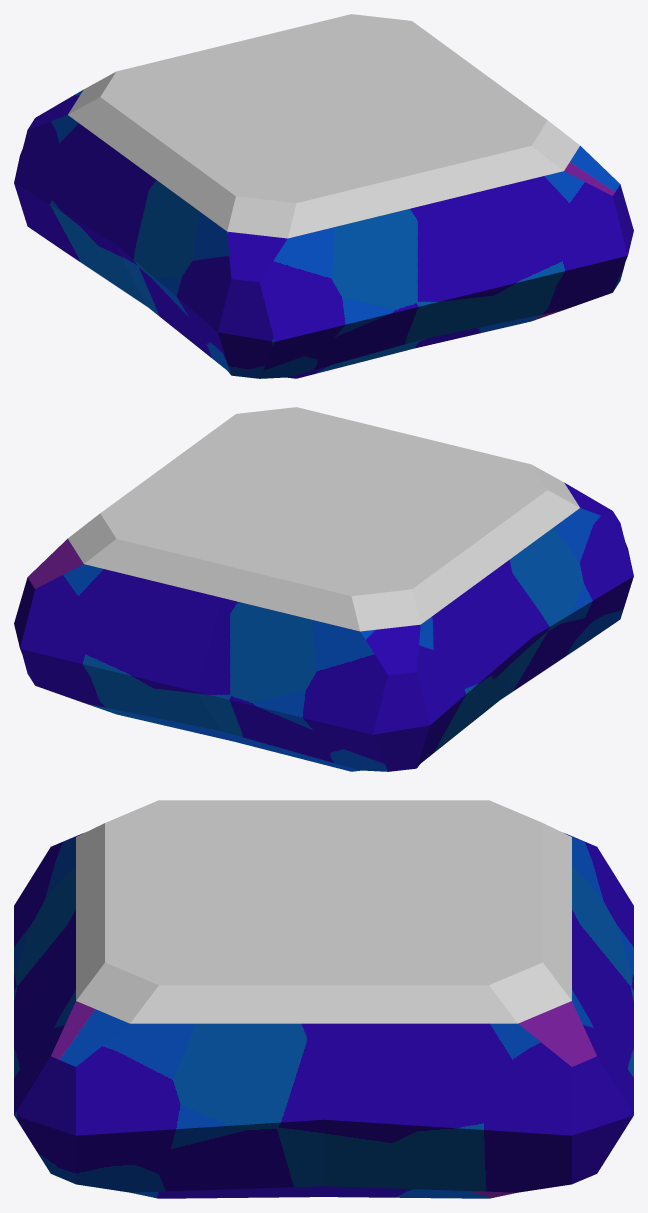
The model's file is Platform.fbx.
3 renders of one model, top to bottom at view 1: azimuth 30°, elevation 25°; view 2: azimuth 150°, elevation 25°; view 3: azimuth 270°, elevation 25°, orthographic. The views are drawn at different scales.
Parts seen in each view (by area): view 1: Platform; view 2: Platform; view 3: Platform.
Boxes of the visible parts, left/top/right/bottom form: Platform: left=14, top=14, right=633, bottom=378; Platform: left=14, top=407, right=633, bottom=771; Platform: left=14, top=800, right=633, bottom=1198.
Bounding box in the file's own units: 236 × 95.06 × 250.
